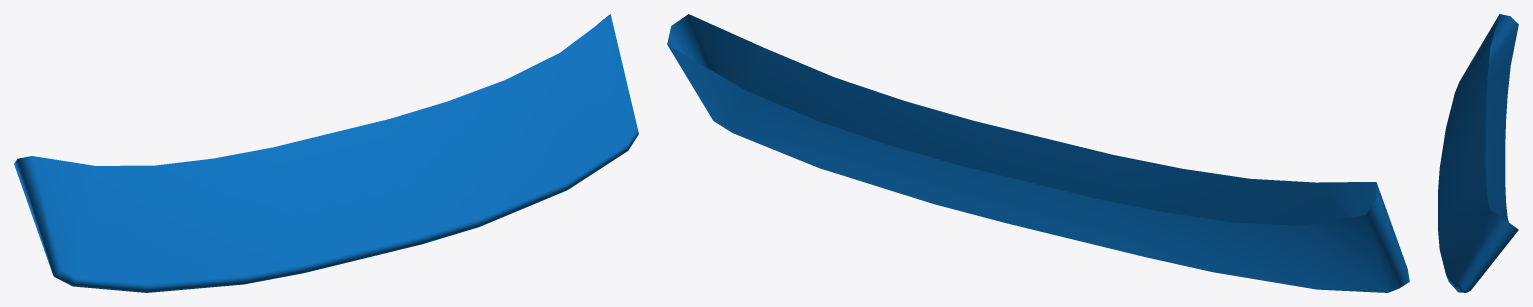
The model's file is Car_11_FrontBumper_Simple.fbx.
The picture shows the model from 3 angles, left to right: view 1: azimuth 30°, elevation 25°; view 2: azimuth 150°, elevation 25°; view 3: azimuth 270°, elevation 25°; orthographic projection. The views are drawn at different scales.
Visible parts, largest first — view 1: Car_11_FrontBumper_Simple; view 2: Car_11_FrontBumper_Simple; view 3: Car_11_FrontBumper_Simple.
Part boxes in pixels (<box>): Car_11_FrontBumper_Simple: <box>14,14,638,292</box>; Car_11_FrontBumper_Simple: <box>667,14,1409,292</box>; Car_11_FrontBumper_Simple: <box>1438,14,1518,292</box>.
Bounding box in the file's own units: 121 × 19.96 × 28.42.
